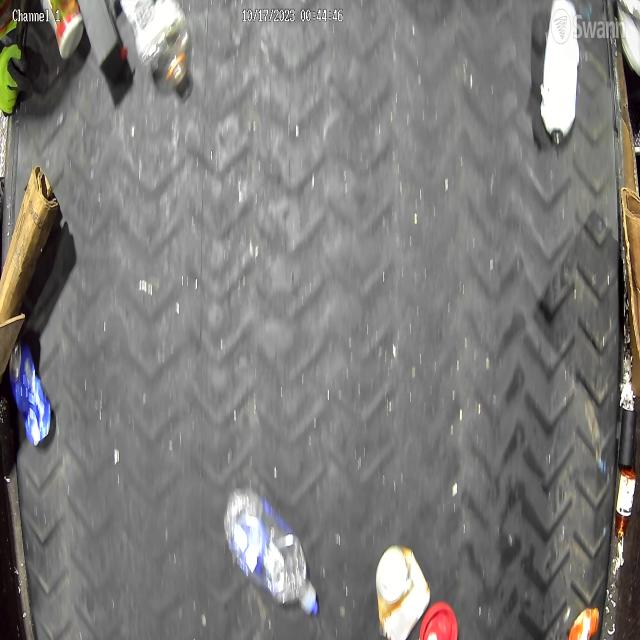can: (373, 543, 431, 640), (7, 342, 53, 451)
plastic_bottle: (223, 488, 318, 614), (120, 0, 188, 85)
